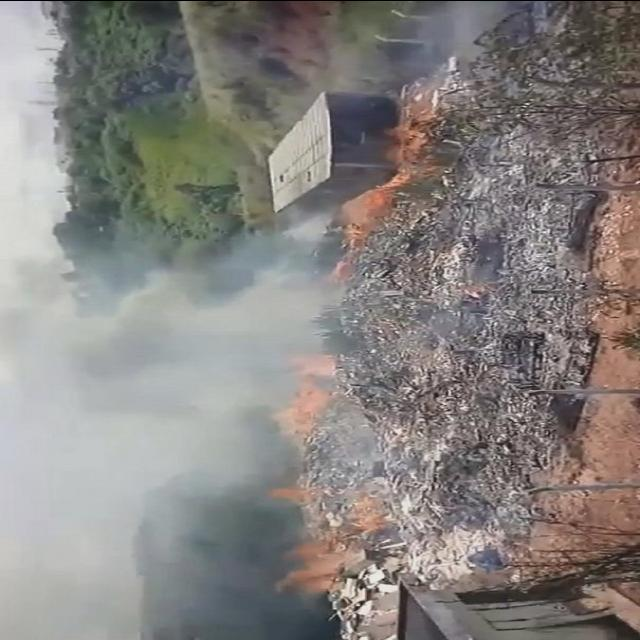Fire: (340, 124, 432, 242), (272, 357, 338, 432), (271, 541, 335, 593), (344, 492, 386, 532), (269, 484, 309, 512)
